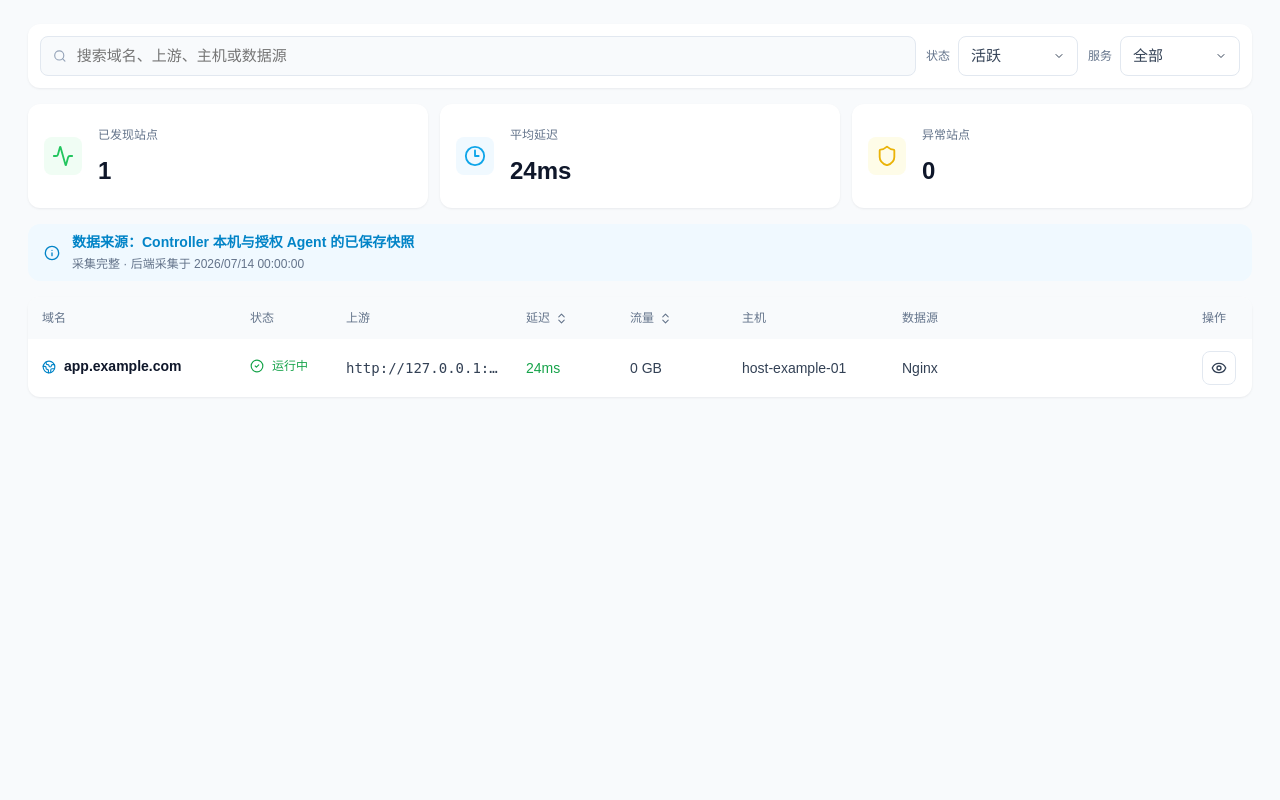
Scenario: site management UI › shows an explicit empty state for a successful empty log query
What coordinates should you click on to do the following:
click the button named "查看 app.example.com 站点操作"
I would click on:
 (1219, 368)
Its box is [1202,351,1236,385].
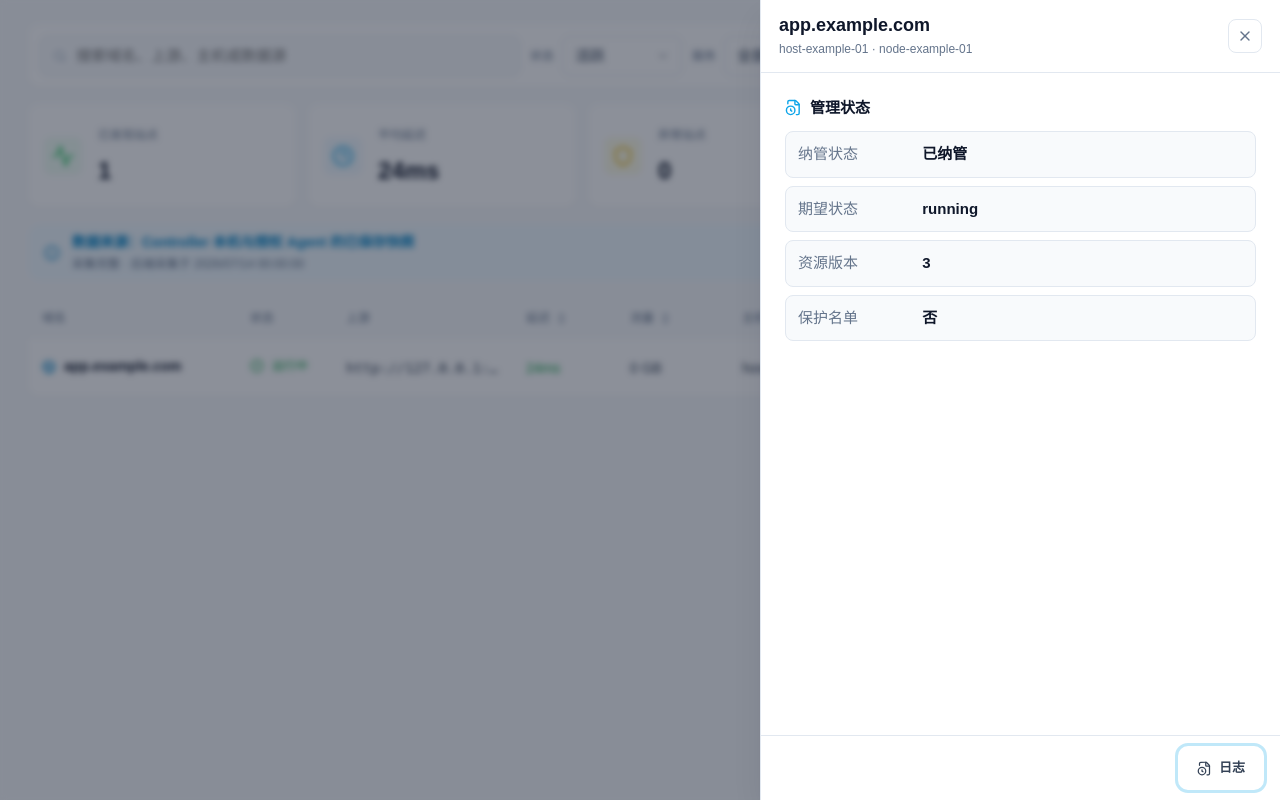
What coordinates should you click on to do the following:
click the button "日志"
I would click on:
 (1221, 768)
Its box is [1180,748,1262,788].
Wait 10000 ms
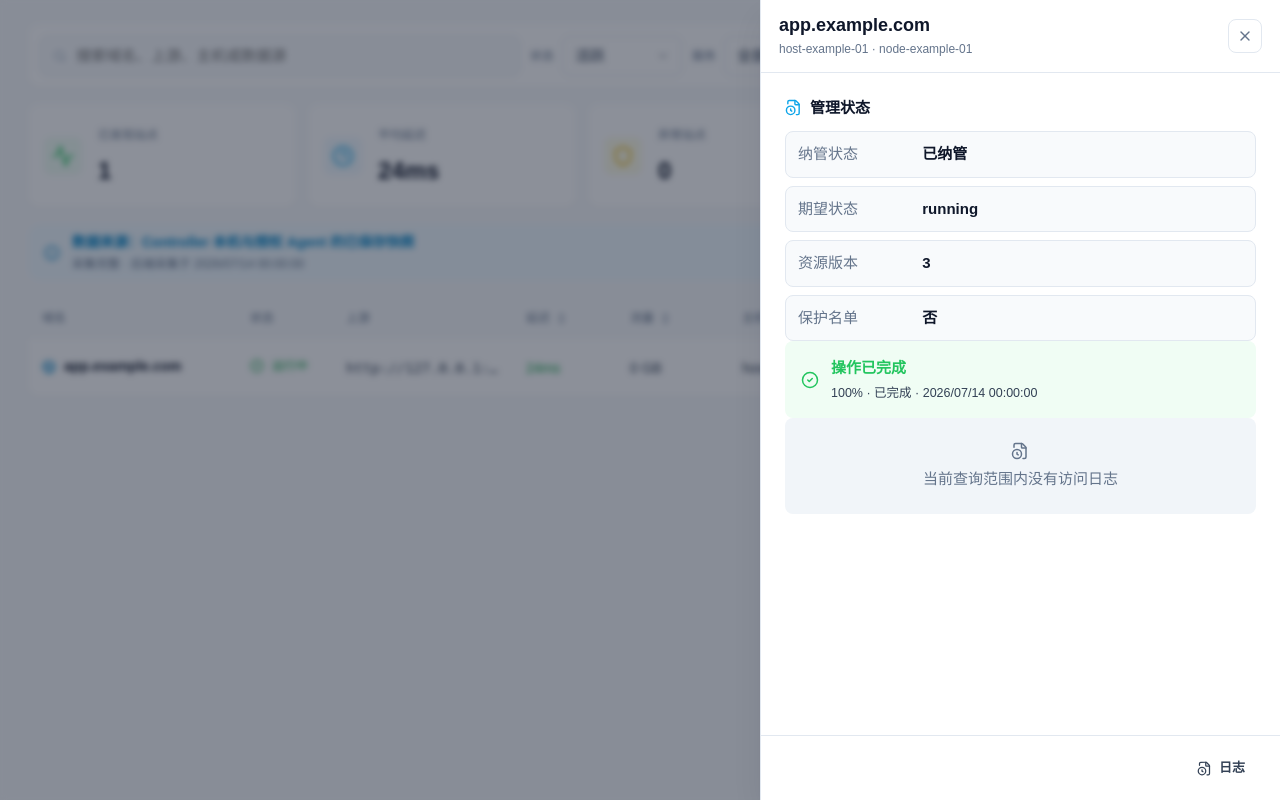
Check: the text "当前查询范围内没有访问日志" is shown, box [923,468,1118,490]
